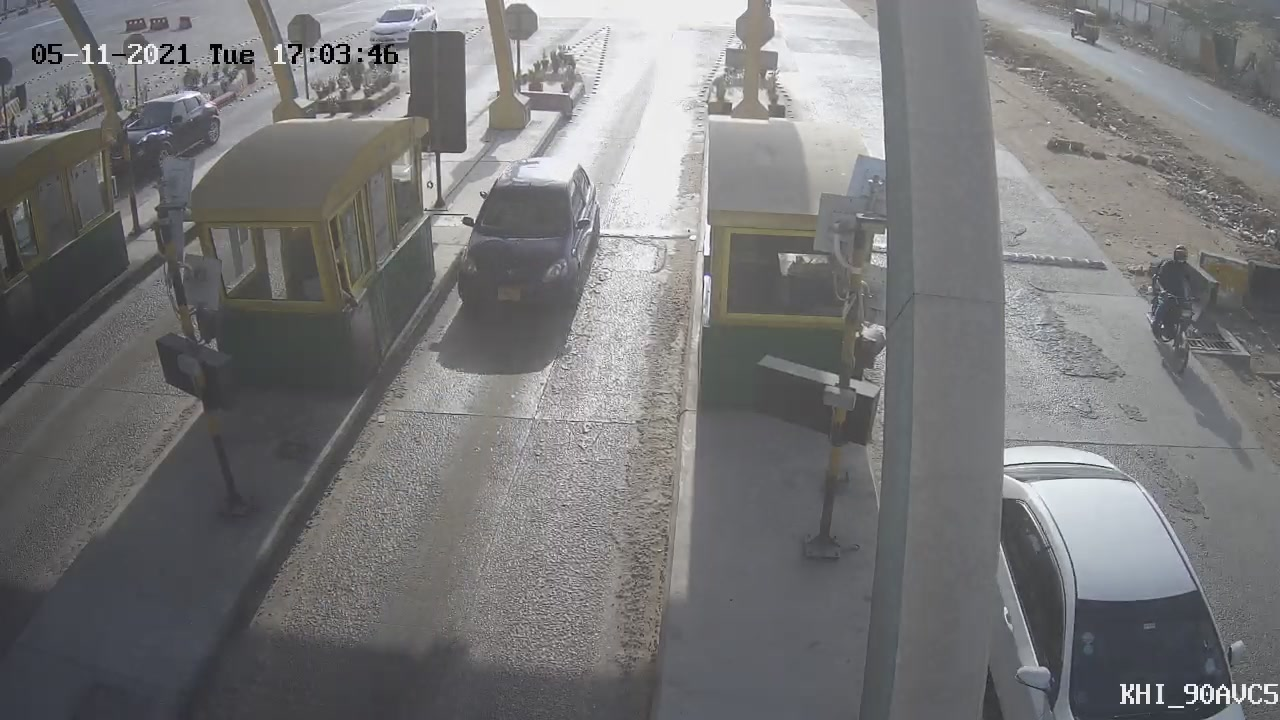F1: (433, 140, 621, 339)
